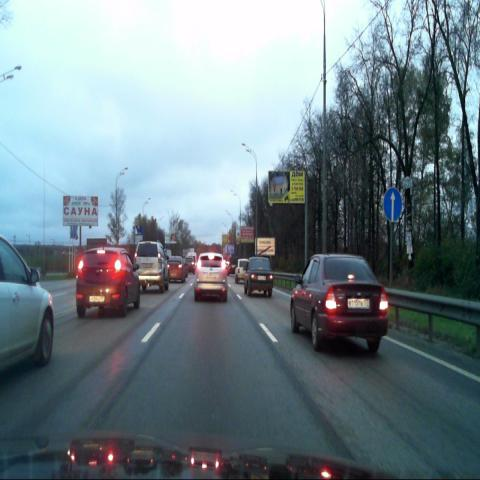4_1_1: (383, 189, 402, 221)
